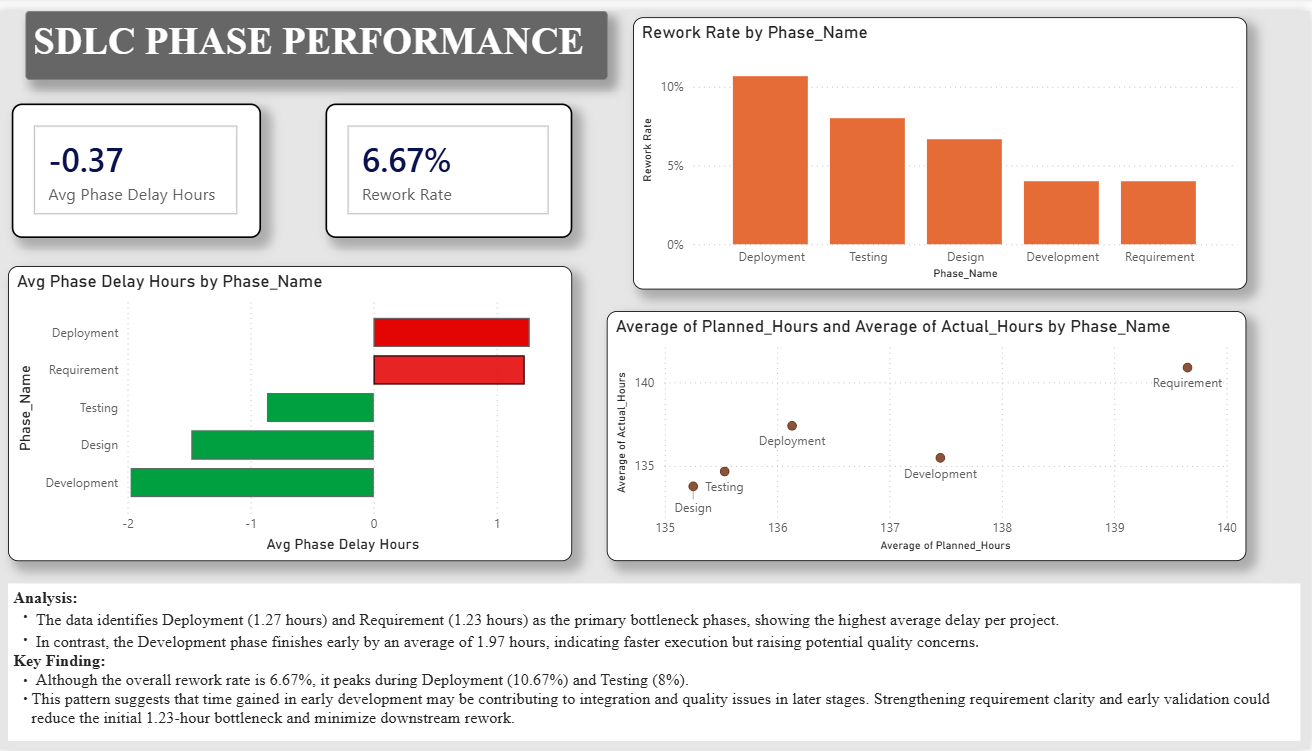

Layout of this report page (visuals, bound fields, positions):
{"tool":"powerbi","page":{"name":"Phase-Level Delay Analysis","canvas":[1280,720],"ordinal":1},"visuals":[{"type":"textbox","box":[9.7,0,552.5,155.6],"z":0},{"type":"barChart","title":"Average Delay Contribution by SDLC Phase","fields":{"Category":["sdlc_phase_tracking.Phase_Name"],"Y":["project_master.Avg Phase Delay (Hours)"]},"box":[9.7,191.8,667.2,313.7],"z":1000},{"type":"cardVisual","title":"Avg Phase Delay","fields":{"Data":["project_master.Avg Phase Delay (Hours)"]},"box":[997.7,0,257,203.9],"z":2000},{"type":"textbox","box":[693.7,203.9,586.3,497.1],"z":3000}]}

Visuals, with their boxes in screenshot pixels (x1, y1, x2, y2), scaled from the page's 1280x720 canvas onto the 1312x751 screenshot:
textbox: <region>10, 0, 576, 162</region>
"Average Delay Contribution by SDLC Phase" barChart: <region>10, 200, 694, 527</region>
"Avg Phase Delay" cardVisual: <region>1023, 0, 1286, 213</region>
textbox: <region>711, 213, 1311, 731</region>
